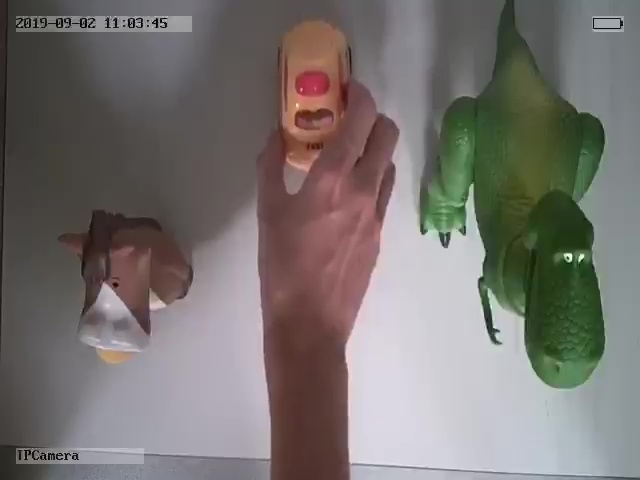horse: (61, 210, 194, 364)
rex: (421, 6, 605, 390)
